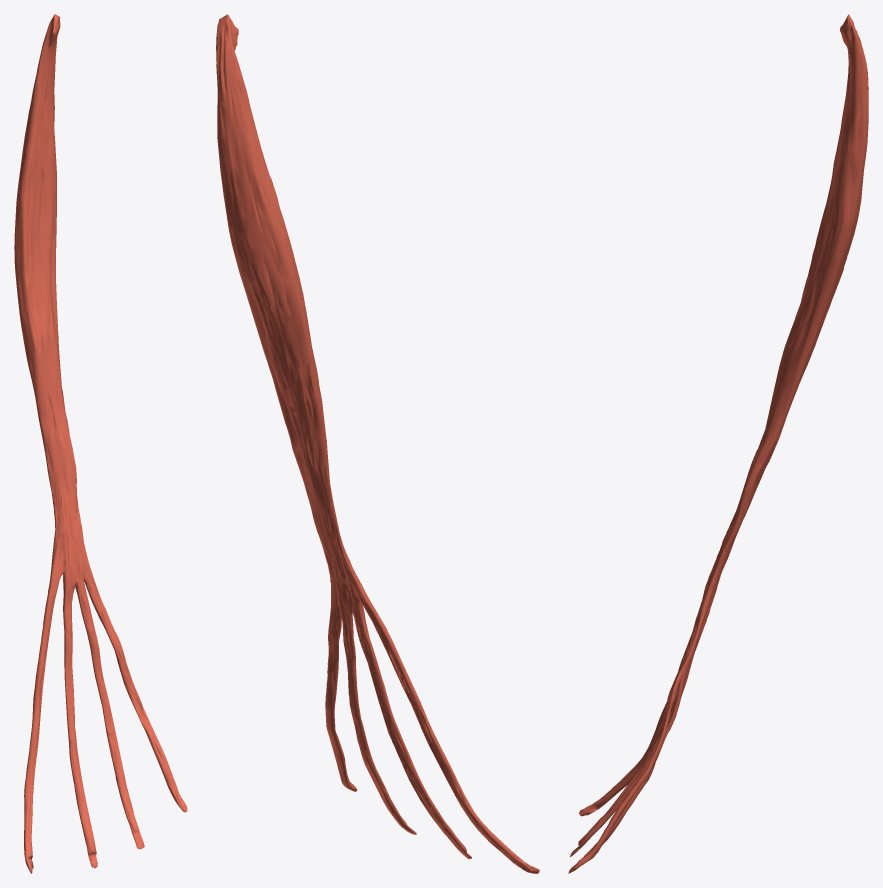
Rendered from extensor-digitorum.glb.
3 renders of one model, left to right at view 1: azimuth 30°, elevation 25°; view 2: azimuth 150°, elevation 25°; view 3: azimuth 270°, elevation 25°, orthographic. The views are drawn at different scales.
Visible parts, largest first — view 1: Extensor digitorum.r; view 2: Extensor digitorum.r; view 3: Extensor digitorum.r.
Boxes of the visible parts, box(x1,y1,x2,y2) form: Extensor digitorum.r: box(14, 14, 187, 873); Extensor digitorum.r: box(216, 14, 539, 873); Extensor digitorum.r: box(568, 14, 868, 873).
Bounding box in the file's own units: 0.0853 × 0.3946 × 0.1212.
